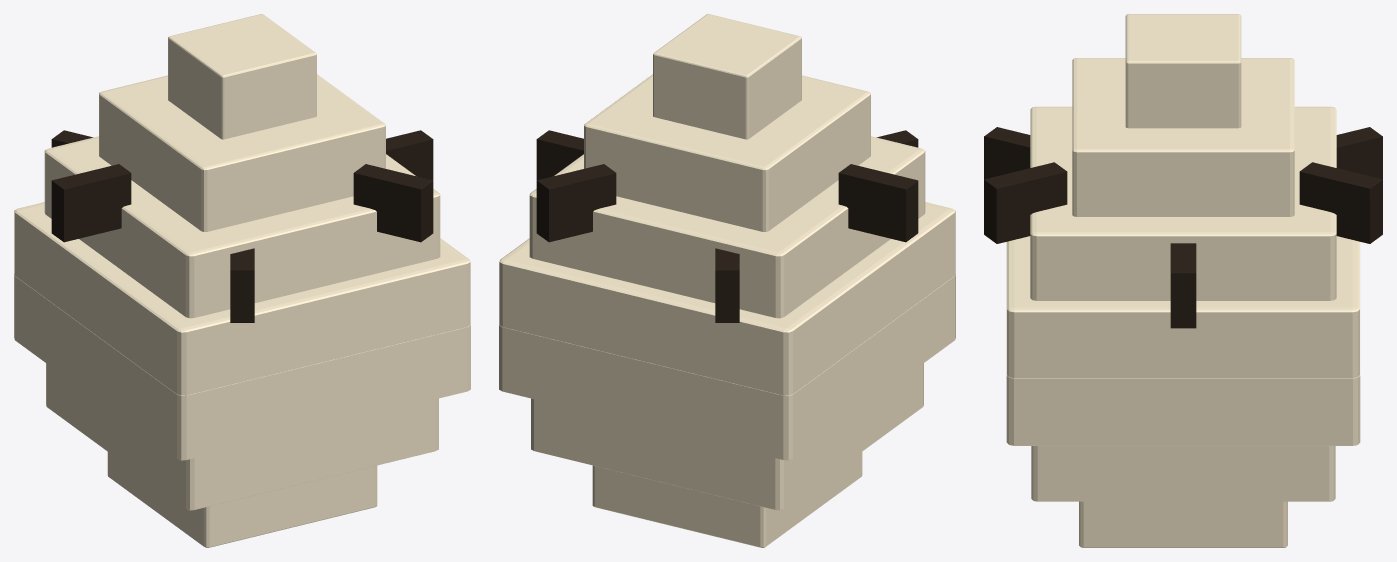
Rendered from egg-cracked.glb.
3 views of the same model, side by side, from view 1: azimuth 30°, elevation 25°; view 2: azimuth 150°, elevation 25°; view 3: azimuth 270°, elevation 25° (orthographic). The views are drawn at different scales.
Visible parts, largest first — view 1: body; view 2: body; view 3: body.
Boxes of the visible parts, x1=… form: body: x1=14, y1=14, x2=470, y2=547; body: x1=499, y1=14, x2=955, y2=547; body: x1=984, y1=14, x2=1382, y2=547.
Bounding box in the file's own units: 0.8652 × 1 × 0.7737.
